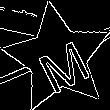M_NW: (26, 25, 90, 91)
